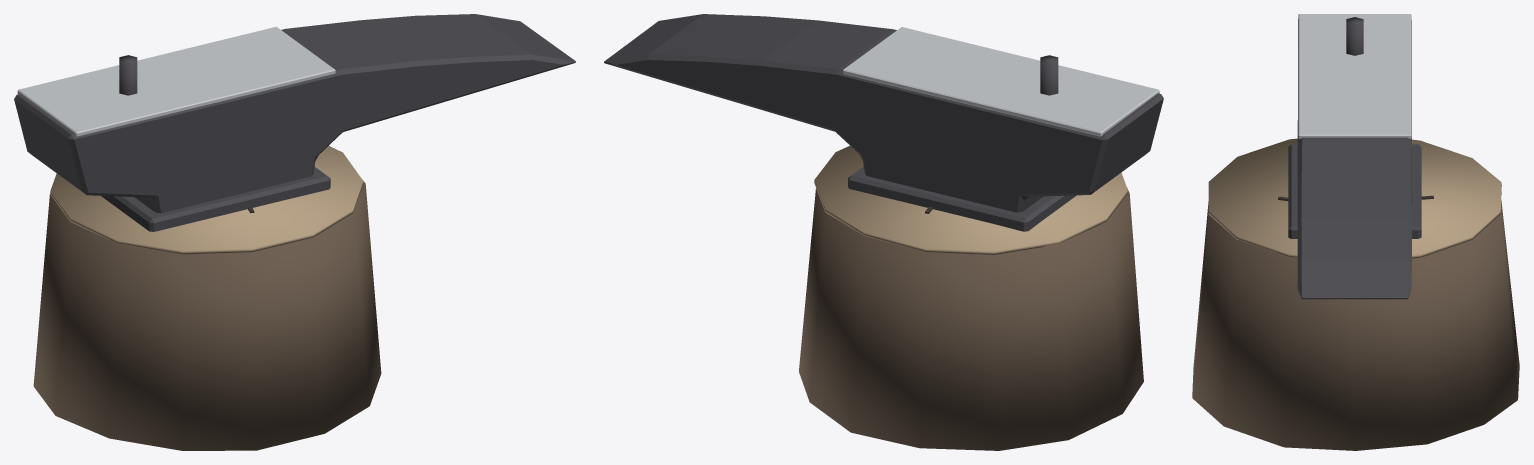
The model's file is anvil.glb.
3 renders of one model, left to right at view 1: azimuth 30°, elevation 25°; view 2: azimuth 150°, elevation 25°; view 3: azimuth 270°, elevation 25°, orthographic. The views are drawn at different scales.
Parts seen in each view (by area): view 1: anvil; view 2: anvil; view 3: anvil.
Boxes of the visible parts, left/top/right/bottom form: anvil: left=14, top=14, right=575, bottom=450; anvil: left=604, top=14, right=1163, bottom=450; anvil: left=1192, top=14, right=1519, bottom=450.
Size of the model in its own units: 1.68 by 1.08 by 0.9805.
